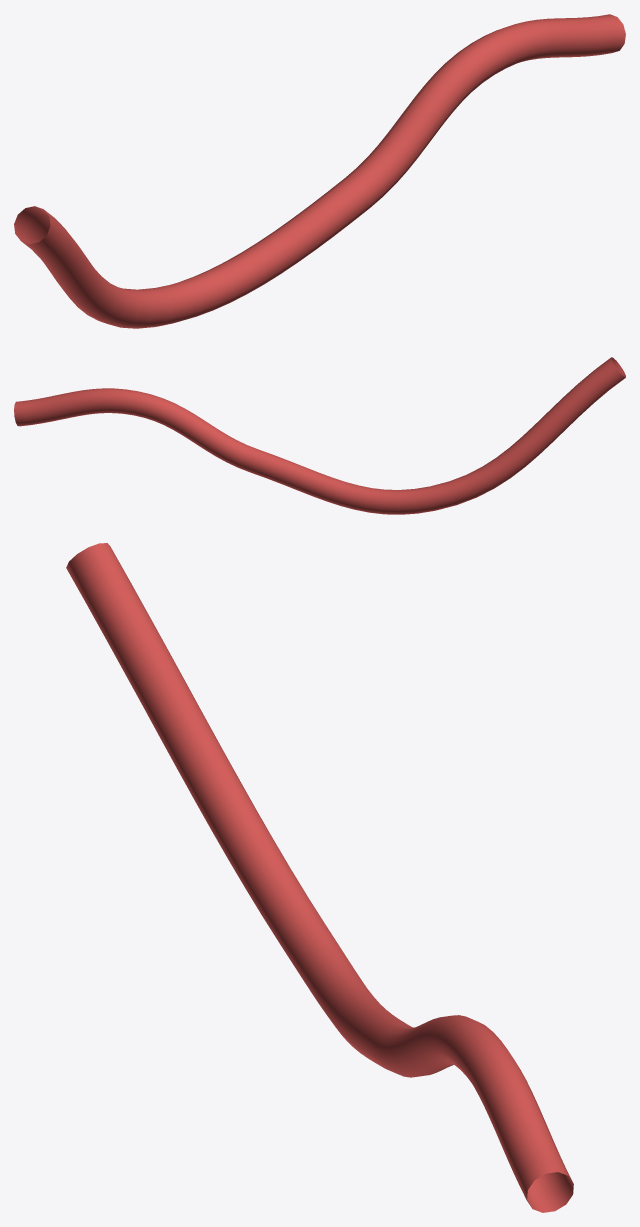
The picture shows the model from 3 angles, top to bottom: view 1: azimuth 30°, elevation 25°; view 2: azimuth 150°, elevation 25°; view 3: azimuth 270°, elevation 25°; orthographic projection. The views are drawn at different scales.
Parts seen in each view (by area): view 1: 右侧阴部外深动脉; view 2: 右侧阴部外深动脉; view 3: 右侧阴部外深动脉.
Part boxes in pixels (<box>): 右侧阴部外深动脉: <box>14,14,625,328</box>; 右侧阴部外深动脉: <box>14,357,625,514</box>; 右侧阴部外深动脉: <box>66,543,573,1212</box>.
Bounding box in the file's own units: 0.0473 × 0.0137 × 0.0209.
